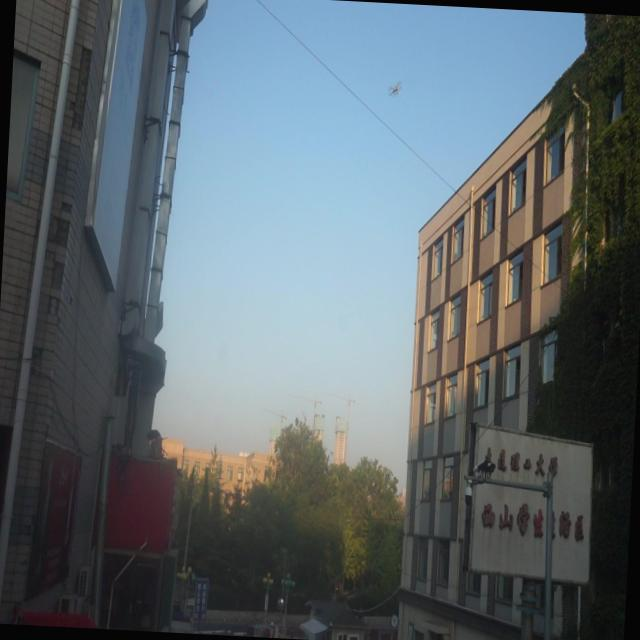drone: (386, 78, 404, 102)
